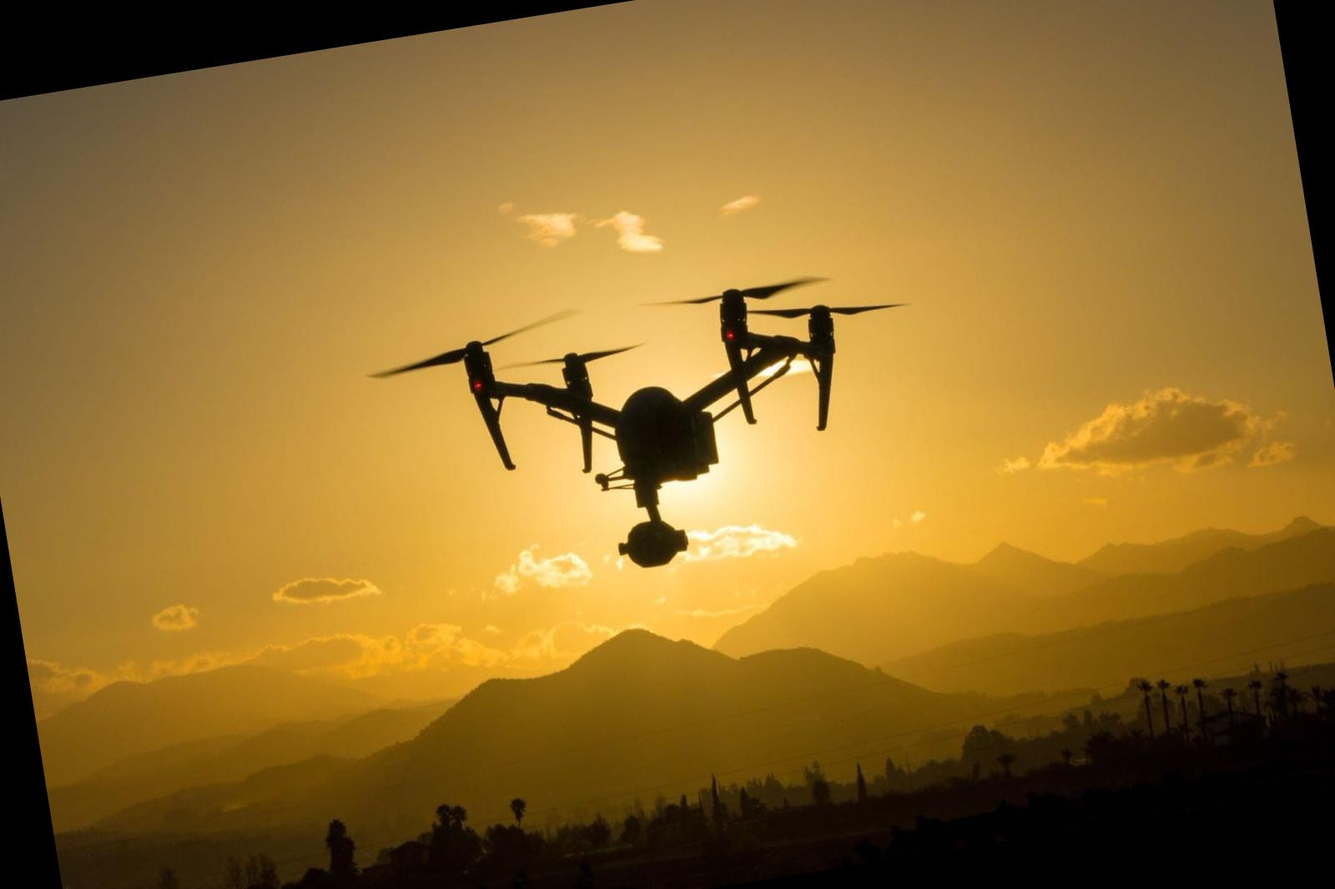drone: (366, 230, 948, 526)
